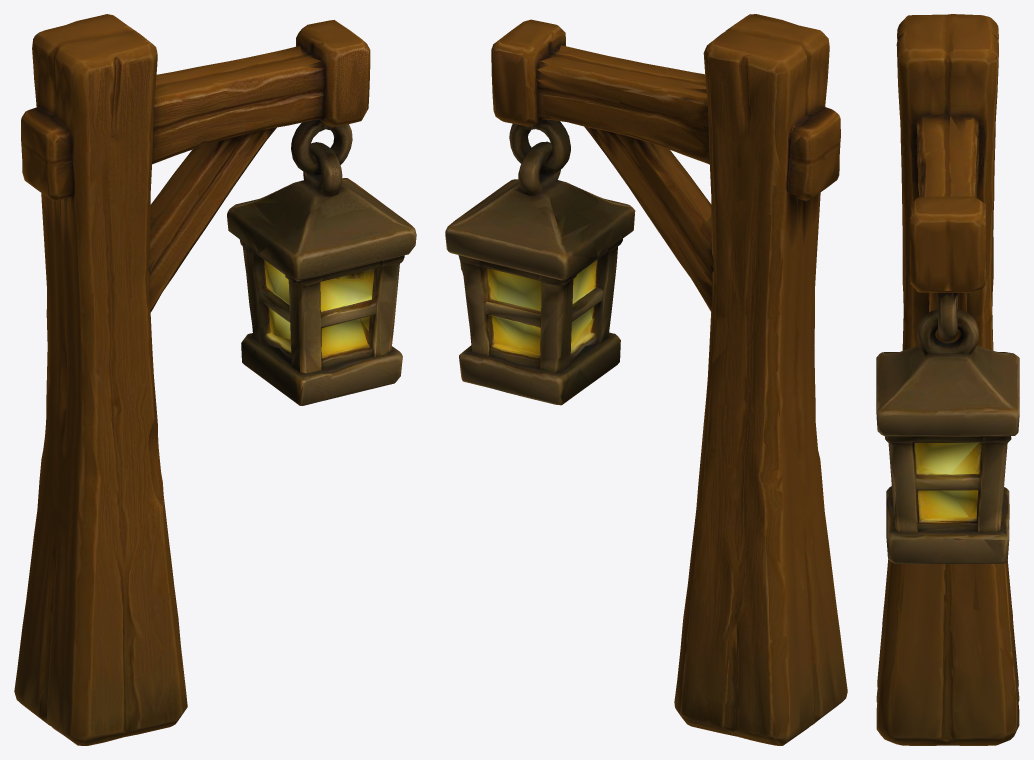
File: lantern-post.glb
The picture shows the model from 3 angles, left to right: view 1: azimuth 30°, elevation 25°; view 2: azimuth 150°, elevation 25°; view 3: azimuth 270°, elevation 25°; orthographic projection.
Visible parts, largest first — view 1: tripo_node_8c0061b4-b956-4af7-95bd-4329309b4dbb; view 2: tripo_node_8c0061b4-b956-4af7-95bd-4329309b4dbb; view 3: tripo_node_8c0061b4-b956-4af7-95bd-4329309b4dbb.
Boxes of the visible parts, bbox=[...] form: tripo_node_8c0061b4-b956-4af7-95bd-4329309b4dbb: bbox=[14, 14, 416, 745]; tripo_node_8c0061b4-b956-4af7-95bd-4329309b4dbb: bbox=[445, 14, 847, 745]; tripo_node_8c0061b4-b956-4af7-95bd-4329309b4dbb: bbox=[876, 14, 1019, 745].
Bounding box in the file's own units: 0.5267 × 0.9789 × 0.1851.
Materials: 1 (1 with a texture image).
